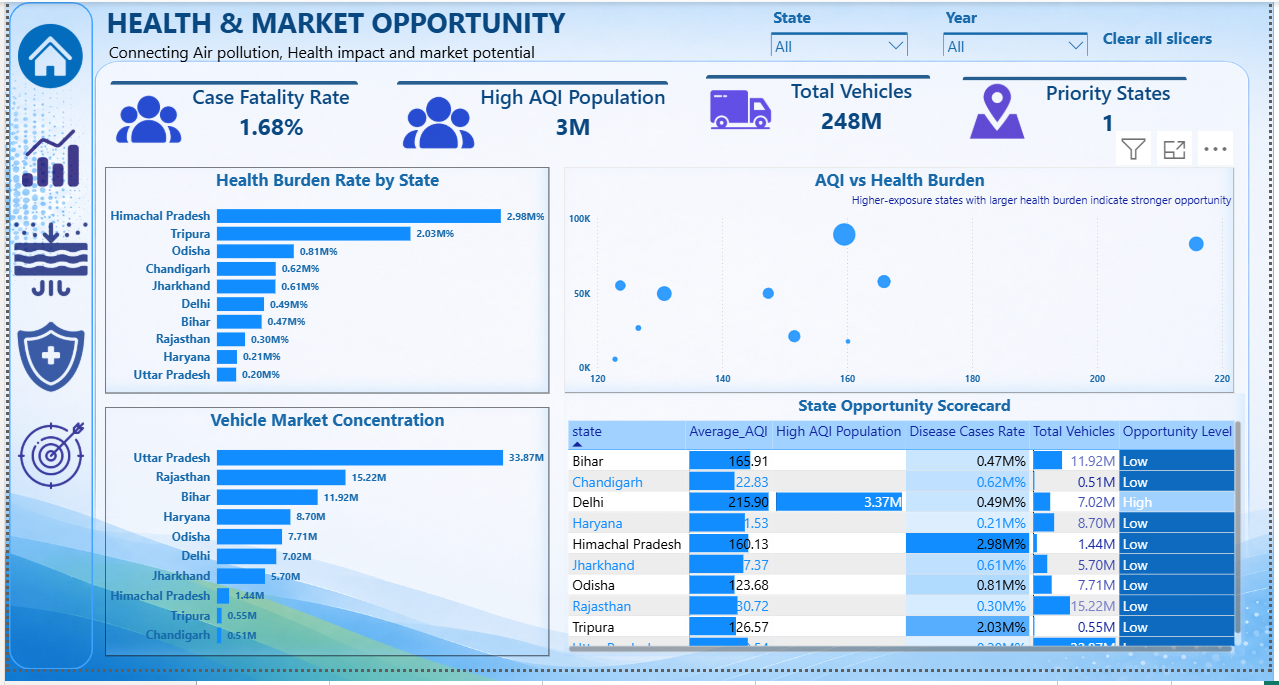

The dashboard page shown, as its layout file describes it:
{"tool":"powerbi","page":{"name":"Health & Market Opportunity","canvas":[1700,900],"ordinal":5},"visuals":[{"type":"shape","box":[0,0,113.3,900.7],"z":0},{"type":"image","box":[12.1,20.2,87,105.2],"z":1000},{"type":"image","box":[12.1,158.9,87,105.2],"z":2000},{"type":"image","box":[0,297.5,113.3,99.2],"z":3000},{"type":"image","box":[0,430.1,113.3,99.2],"z":4000},{"type":"image","box":[0,572.8,113.3,99.2],"z":5000},{"type":"textbox","box":[129.5,0,694.2,54.6],"z":6000},{"type":"textbox","box":[129.5,46.6,817.7,40.5],"z":7000},{"type":"actionButton","box":[1465.4,20.2,172,50.6],"z":8000},{"type":"slicer","fields":{"Values":["Dim_Month.Year"]},"box":[1250.9,0,214.5,72.9],"z":9000},{"type":"slicer","fields":{"Values":["Dim_State.state"]},"box":[1018.1,0,204.4,72.9],"z":10000},{"type":"cardVisual","fields":{"Data":["_Measures.Case Fatality Rate"]},"box":[143.7,91.1,348.1,119.4],"z":11000},{"type":"cardVisual","fields":{"Data":["_Measures.Total Vehicles"]},"box":[933.1,91.1,317.8,131.6],"z":12000},{"type":"cardVisual","fields":{"Data":["_Measures.High AQI Population"]},"box":[508,93.1,380.5,117.4],"z":13000},{"type":"cardVisual","fields":{"Data":["_Measures.Priority States"]},"box":[1279.2,93.1,317.8,117.4],"z":14000},{"type":"clusteredBarChart","title":"Health Burden Rate by State","fields":{"Category":["Dim_State.state"],"Y":["_Measures.Disease Cases Rate"]},"box":[129.5,222.6,599.1,305.6],"z":15000},{"type":"scatterChart","title":"AQI vs Health Burden","fields":{"X":["_Measures.Average_AQI"],"Category":["Dim_State.state"],"Y":["_Measures.Total Disease Cases"],"Size":["_Measures.Total Population"]},"box":[748.9,222.6,904.7,305.6],"z":16000},{"type":"clusteredBarChart","title":"Vehicle Market Concentration","fields":{"Category":["Dim_State.state"],"Y":["_Measures.Total Vehicles"]},"box":[129.5,546.5,599.1,336],"z":17000},{"type":"tableEx","title":"State Opportunity Scorecard","fields":{"Values":["Dim_State.state","_Measures.Average_AQI","_Measures.High AQI Population","_Measures.Disease Cases Rate","_Measures.Total Vehicles","_Measures.Opportunity Level"]},"box":[748.9,528.3,918.9,354.2],"z":18000}]}

Visuals, with their boxes on the page's 1700x900 design canvas (x1, y1, x2, y2). These are canvas units, not pixel positions in the 1279x685 screenshot, which may show the page scaled, cropped or inside an application window:
shape: crop(0, 0, 113, 901)
image: crop(12, 20, 99, 125)
image: crop(12, 159, 99, 264)
image: crop(0, 298, 113, 397)
image: crop(0, 430, 113, 529)
image: crop(0, 573, 113, 672)
textbox: crop(130, 0, 824, 55)
textbox: crop(130, 47, 947, 87)
actionButton: crop(1465, 20, 1637, 71)
slicer - Dim_Month.Year: crop(1251, 0, 1465, 73)
slicer - Dim_State.state: crop(1018, 0, 1222, 73)
cardVisual - _Measures.Case Fatality Rate: crop(144, 91, 492, 210)
cardVisual - _Measures.Total Vehicles: crop(933, 91, 1251, 223)
cardVisual - _Measures.High AQI Population: crop(508, 93, 888, 210)
cardVisual - _Measures.Priority States: crop(1279, 93, 1597, 210)
"Health Burden Rate by State" clusteredBarChart: crop(130, 223, 729, 528)
"AQI vs Health Burden" scatterChart: crop(749, 223, 1654, 528)
"Vehicle Market Concentration" clusteredBarChart: crop(130, 546, 729, 882)
"State Opportunity Scorecard" tableEx: crop(749, 528, 1668, 882)
